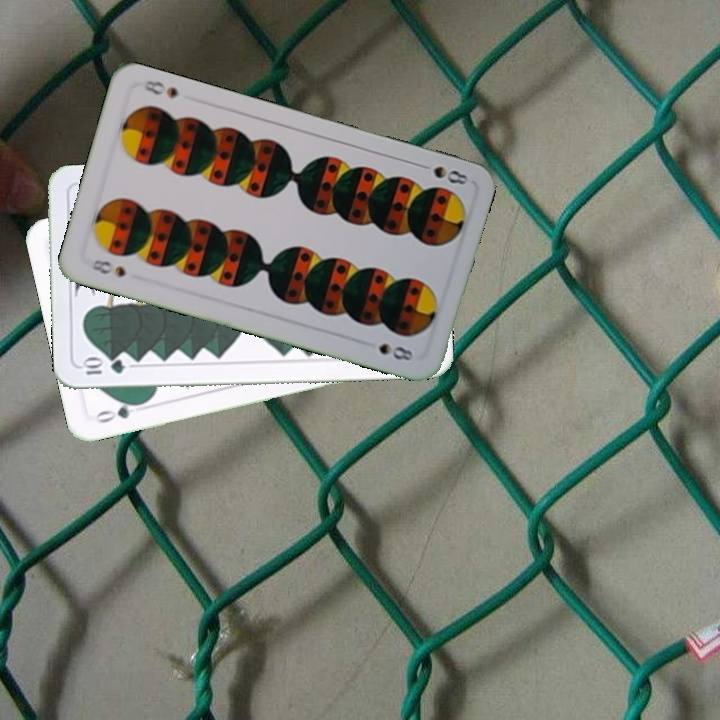G10: (79, 356, 127, 377)
GO: (91, 397, 148, 426)
S8: (413, 159, 471, 188), (86, 255, 129, 280)
